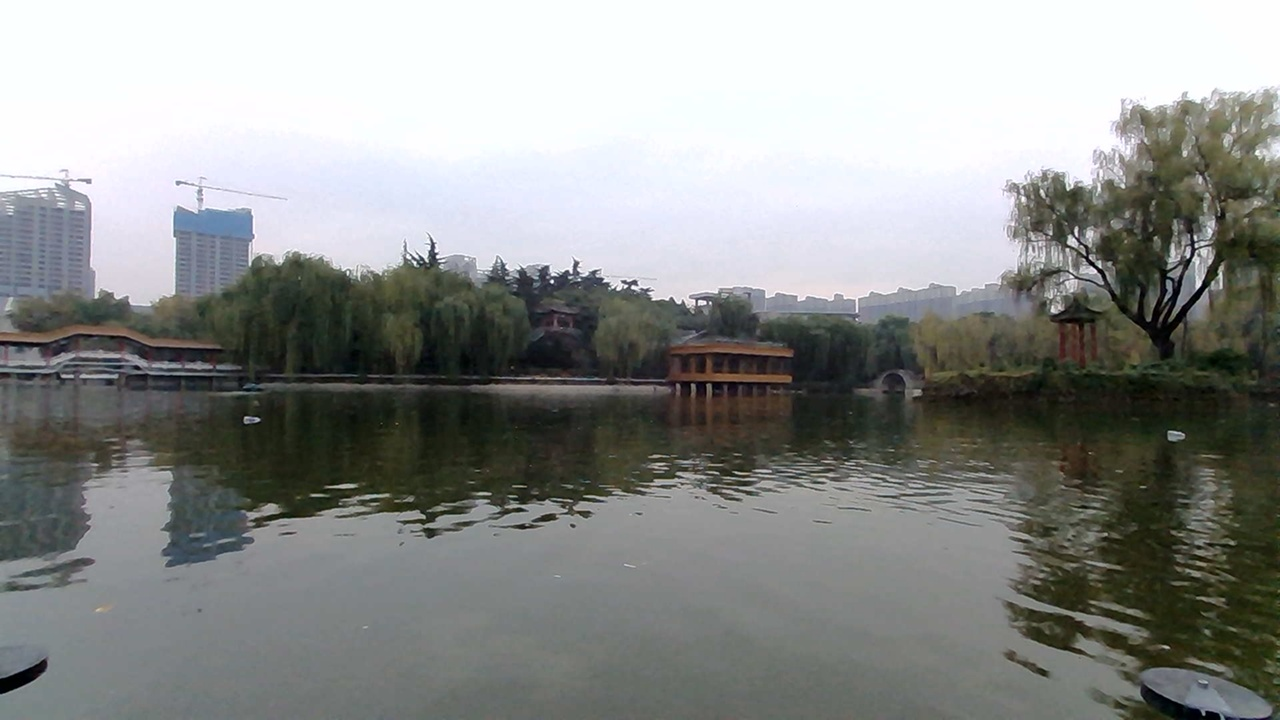bottle: (1162, 415, 1208, 449), (239, 405, 284, 429)
